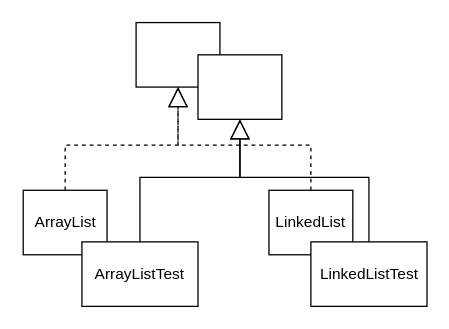
The diagram is 449 pixels wide and 329 high, and some of its shapes have lost their labels. Each missing label, with the centre of its shape:
List: (x=177, y=54)
ListTest: (x=239, y=86)
